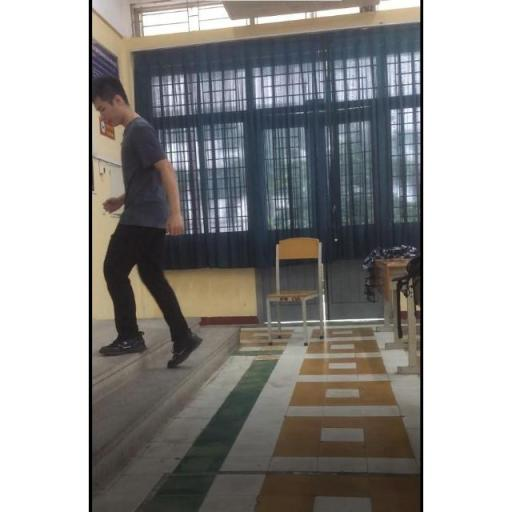Running: (90, 67, 216, 376)
